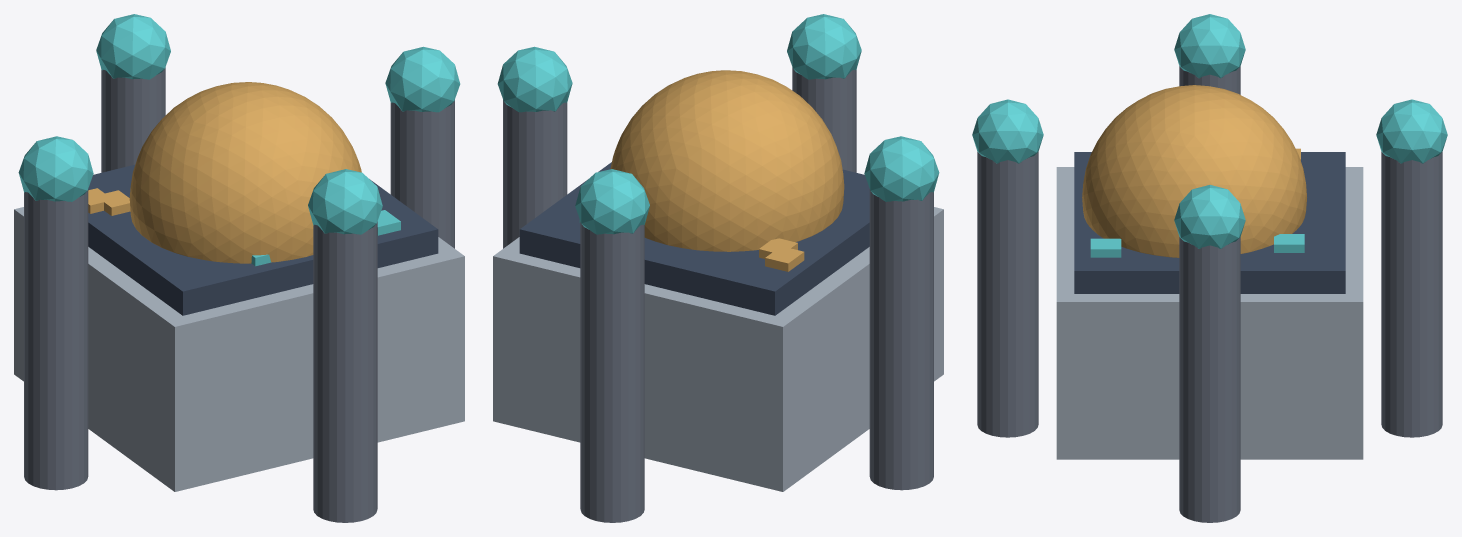
File: lancador-autonomo.glb
3 renders of one model, left to right at view 1: azimuth 30°, elevation 25°; view 2: azimuth 150°, elevation 25°; view 3: azimuth 270°, elevation 25°, orthographic. The views are drawn at different scales.
Parts seen in each view (by area): view 1: part000, part002, part006, part008, part001, part004, part010, part005, part007, part011, part009, part016; view 2: part000, part002, part010, part008, part001, part004, part005, part011, part007, part009, part006, part014; view 3: part000, part002, part006, part010, part004, part001, part007, part011, part009, part005, part008, part018 (+1 smaller).
Part boxes in pixels (left/top/right/bottom): part000: left=14, top=207, right=464, bottom=491; part002: left=129, top=82, right=361, bottom=263; part006: left=313, top=221, right=377, bottom=522; part008: left=24, top=189, right=88, bottom=490; part001: left=88, top=164, right=438, bottom=315; part004: left=390, top=100, right=454, bottom=248; part010: left=101, top=67, right=165, bottom=172; part005: left=385, top=46, right=460, bottom=112; part007: left=308, top=169, right=382, bottom=234; part011: left=96, top=14, right=170, bottom=79; part009: left=18, top=136, right=93, bottom=201; part016: left=95, top=190, right=130, bottom=215; part000: left=493, top=207, right=943, bottom=491; part002: left=610, top=70, right=844, bottom=251; part010: left=580, top=221, right=644, bottom=522; part008: left=869, top=189, right=933, bottom=490; part001: left=519, top=162, right=869, bottom=315; part004: left=503, top=100, right=567, bottom=248; part005: left=497, top=46, right=572, bottom=112; part011: left=575, top=169, right=649, bottom=234; part007: left=787, top=14, right=861, bottom=79; part009: left=864, top=136, right=939, bottom=201; part006: left=792, top=67, right=856, bottom=172; part014: left=765, top=246, right=804, bottom=271; part000: left=1056, top=167, right=1363, bottom=459; part002: left=1082, top=85, right=1306, bottom=257; part006: left=977, top=151, right=1038, bottom=437; part010: left=1381, top=151, right=1442, bottom=437; part004: left=1179, top=237, right=1240, bottom=522; part001: left=1074, top=152, right=1345, bottom=293; part007: left=972, top=99, right=1043, bottom=163; part011: left=1376, top=99, right=1447, bottom=163; part009: left=1174, top=14, right=1245, bottom=78; part005: left=1174, top=185, right=1245, bottom=248; part008: left=1179, top=66, right=1240, bottom=94; part018: left=1090, top=238, right=1121, bottom=257.
Size of the model in its own units: 1.86 by 1.42 by 1.86.
